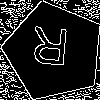R: (29, 26, 70, 75)
